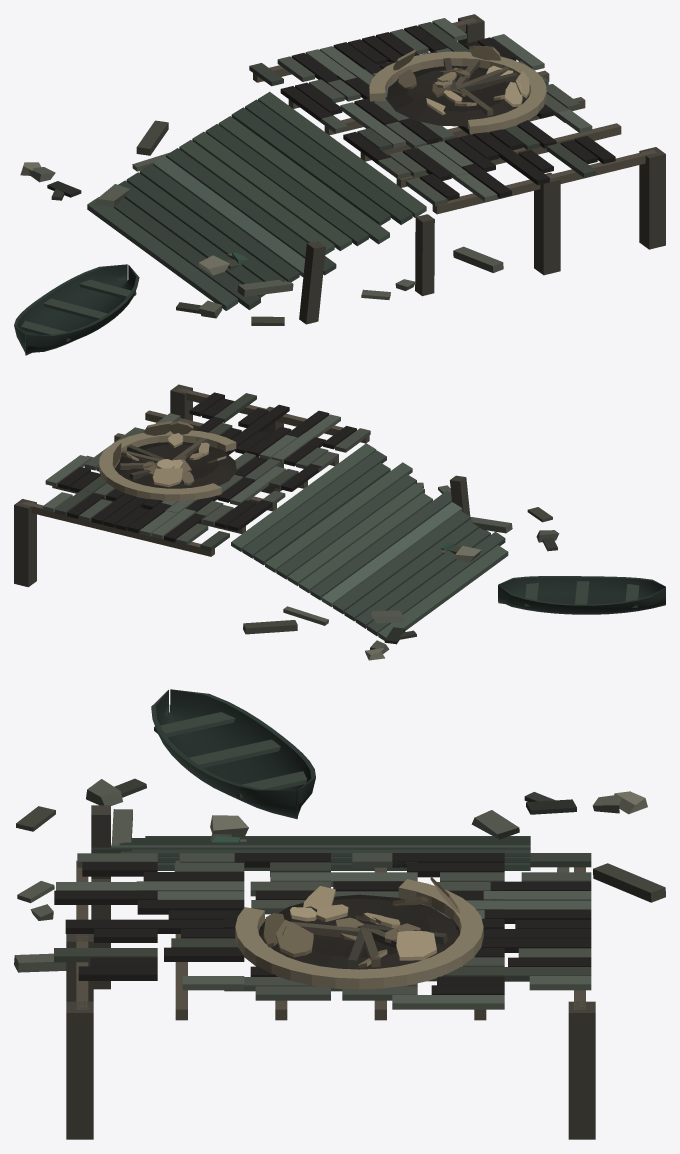
The model's file is VerHut12a.glb.
3 views of the same model, one above another, from view 1: azimuth 30°, elevation 25°; view 2: azimuth 150°, elevation 25°; view 3: azimuth 270°, elevation 25° (orthographic). The views are drawn at different scales.
Parts seen in each view (by area): view 1: VerHut12a_burnt; view 2: VerHut12a_burnt; view 3: VerHut12a_burnt.
Boxes of the visible parts, bbox=[...] form: VerHut12a_burnt: bbox=[14, 14, 665, 355]; VerHut12a_burnt: bbox=[14, 384, 665, 660]; VerHut12a_burnt: bbox=[14, 689, 665, 1139].
Bounding box in the file's own units: 12.91 × 2.56 × 8.72.
